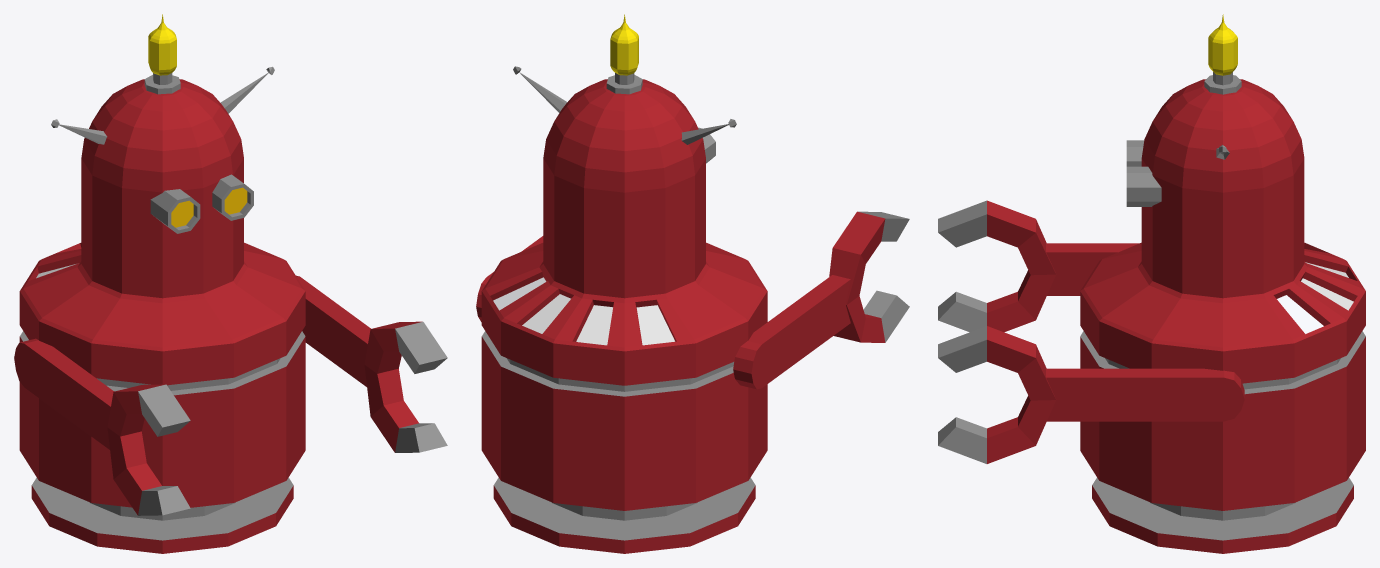
File: robotito.fbx
3 views of the same model, side by side, from view 1: azimuth 30°, elevation 25°; view 2: azimuth 150°, elevation 25°; view 3: azimuth 270°, elevation 25° (orthographic).
Parts seen in each view (by area): view 1: RobotBody, RightArm, Leftarm, Eyes, LightBulb, Antennas; view 2: RobotBody, RightArm, RobotBody.001, LightBulb, Antennas; view 3: RobotBody, Leftarm, RightArm, LightBulb, Eyes, RobotBody.001.
Boxes of the visible parts, x1,y1,x2,y2 form: RobotBody: [19, 79, 305, 553]; RightArm: [14, 338, 190, 515]; Leftarm: [296, 275, 447, 452]; Eyes: [150, 174, 253, 233]; LightBulb: [144, 14, 180, 94]; Antennas: [51, 66, 274, 144]; RobotBody: [481, 79, 767, 553]; RightArm: [733, 211, 909, 389]; RobotBody.001: [493, 277, 674, 345]; LightBulb: [606, 14, 642, 94]; Antennas: [513, 66, 736, 144]; RobotBody: [1080, 79, 1365, 553]; Leftarm: [938, 326, 1244, 463]; RightArm: [938, 200, 1138, 332]; LightBulb: [1204, 14, 1241, 94]; Eyes: [1126, 140, 1161, 206]; RobotBody.001: [1277, 262, 1353, 333].
Size of the model in its own units: 405 by 657 by 526.
